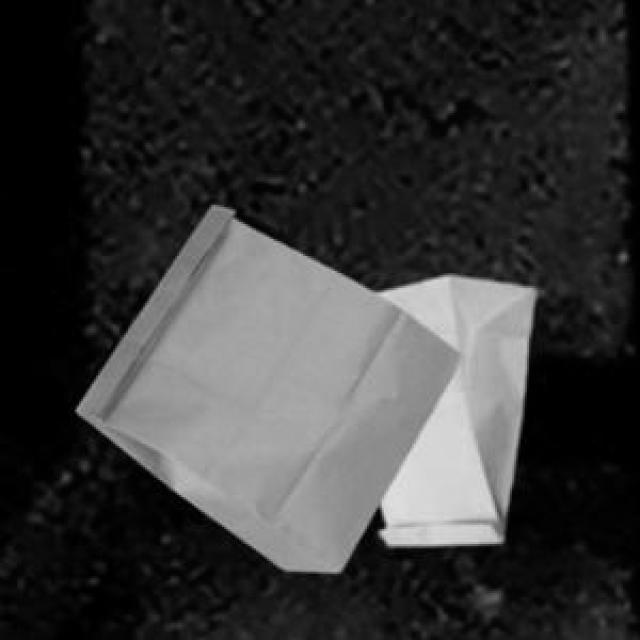paper: (73, 203, 459, 568), (374, 271, 531, 540)
